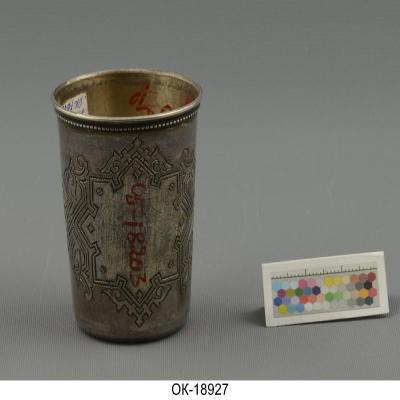dpi: (52, 69, 202, 346)
